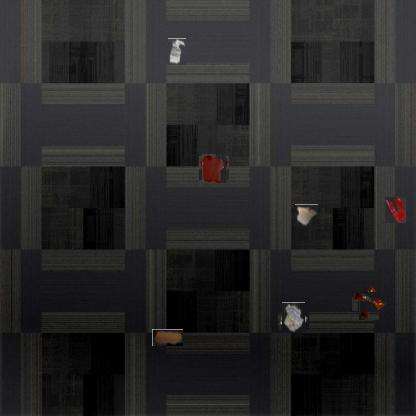dirty: (356, 288, 384, 316), (280, 304, 307, 332), (294, 204, 318, 227), (152, 329, 183, 346), (168, 38, 186, 65)
liquid: (200, 155, 228, 182), (386, 197, 408, 223)
